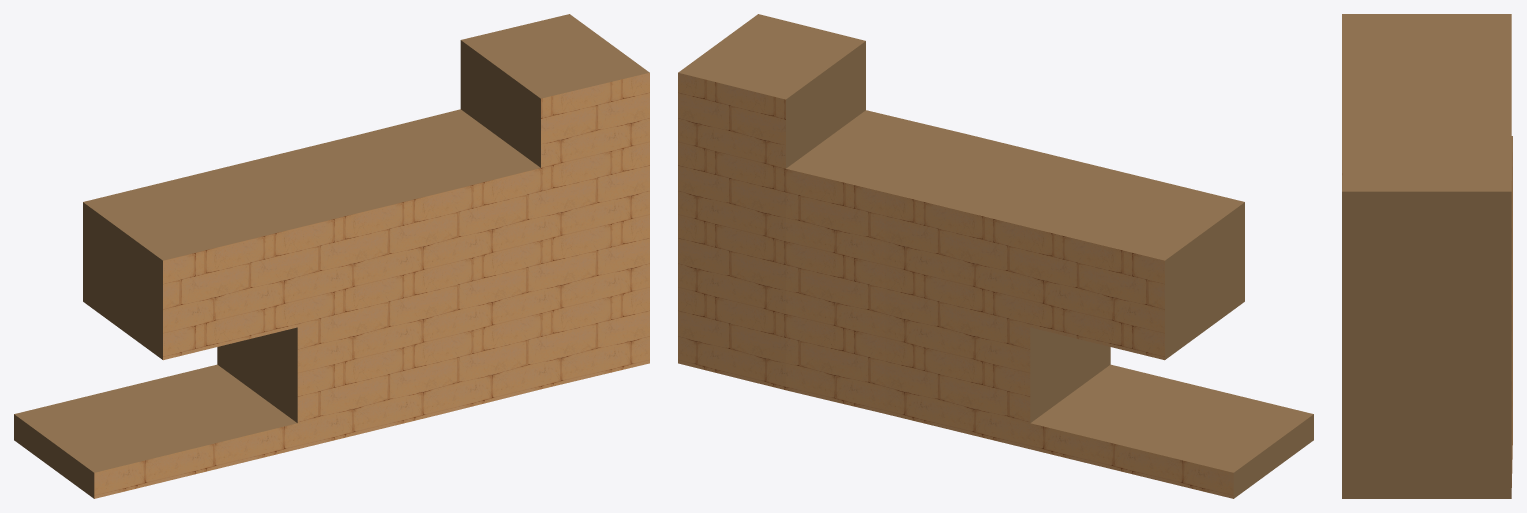
Rendered from Crumbled_Wall_4x2.fbx.
The picture shows the model from 3 angles, left to right: view 1: azimuth 30°, elevation 25°; view 2: azimuth 150°, elevation 25°; view 3: azimuth 270°, elevation 25°; orthographic projection. The views are drawn at different scales.
Parts seen in each view (by area): view 1: Crumbled_Wall_4x2; view 2: Crumbled_Wall_4x2; view 3: Crumbled_Wall_4x2.
Part boxes in pixels (left/top/right/bottom): Crumbled_Wall_4x2: left=14, top=14, right=649, bottom=498; Crumbled_Wall_4x2: left=678, top=14, right=1313, bottom=498; Crumbled_Wall_4x2: left=1342, top=14, right=1512, bottom=498.
Size of the model in its own units: 400 by 200 by 101.
